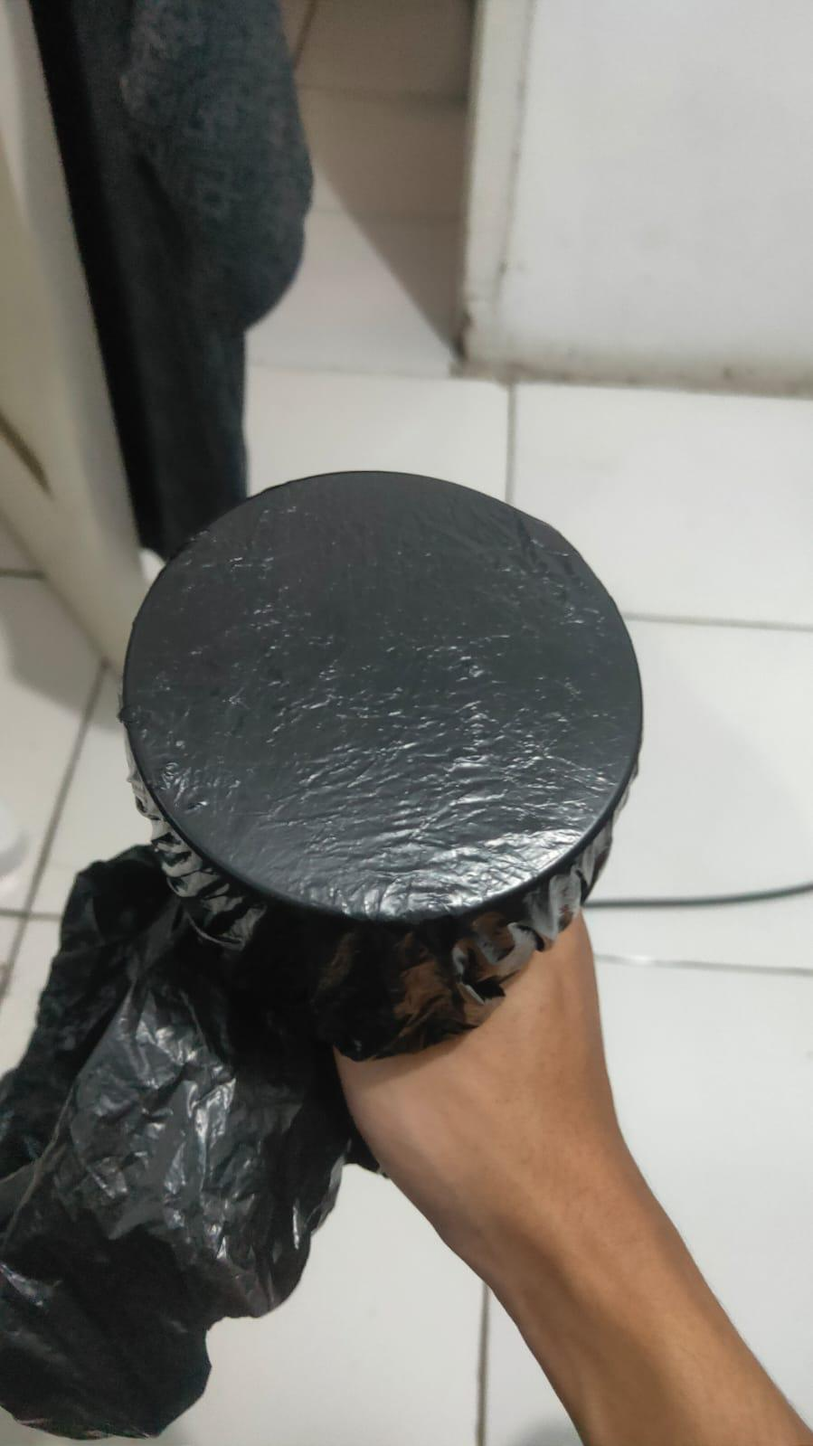undamaged: (93, 445, 657, 1075)
